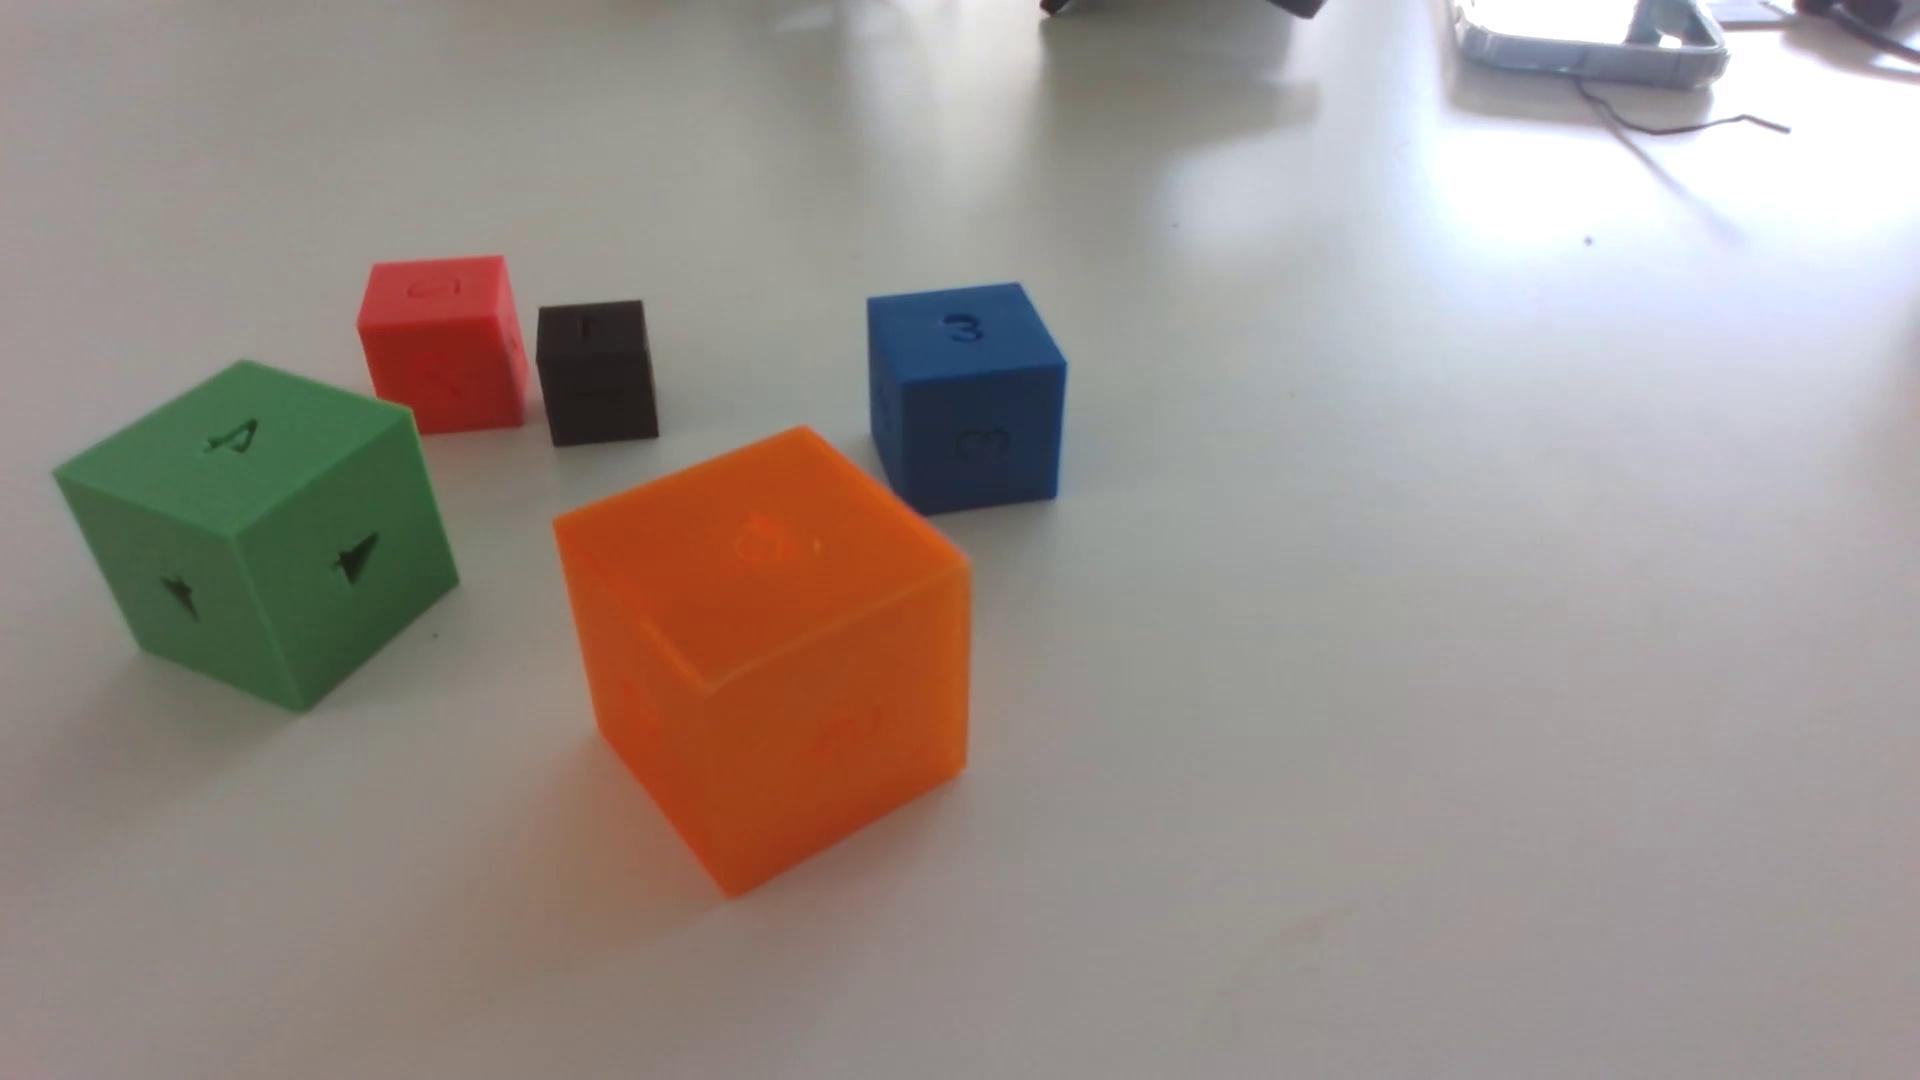black: (536, 300, 660, 448)
blue: (866, 283, 1067, 517)
green: (55, 363, 458, 714)
orange: (555, 428, 971, 896)
red: (357, 256, 529, 437)
